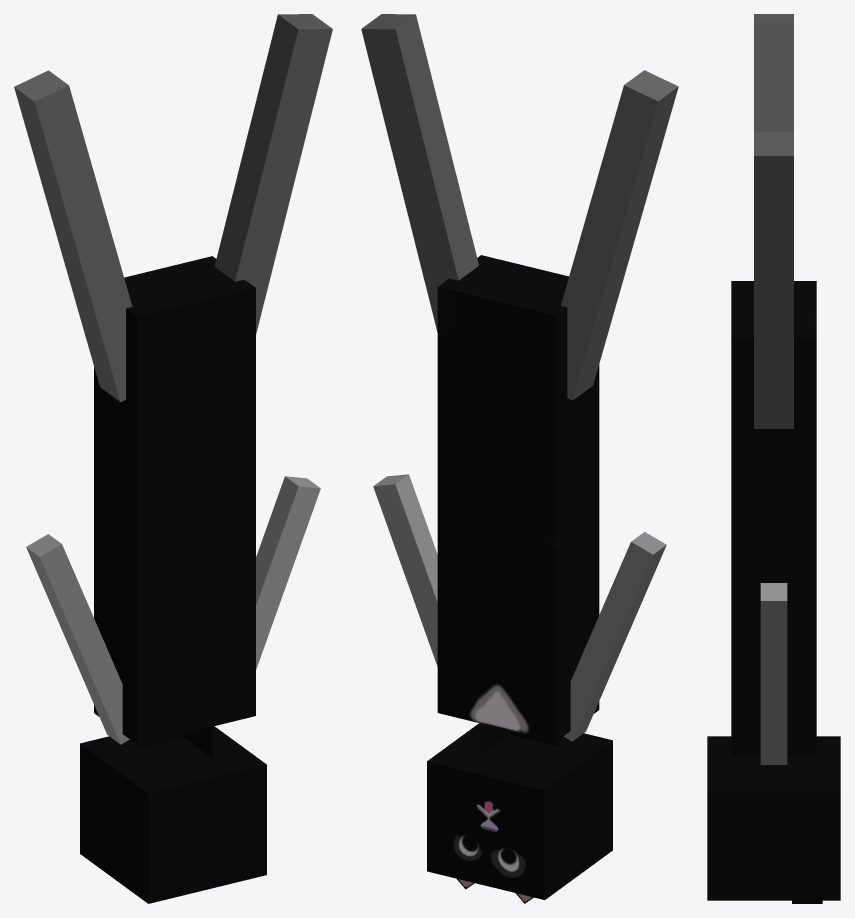
Rendered from char.glb.
3 views of the same model, side by side, from view 1: azimuth 30°, elevation 25°; view 2: azimuth 150°, elevation 25°; view 3: azimuth 270°, elevation 25° (orthographic). The views are drawn at different scales.
Visible parts, largest first — view 1: Torso, Head, right_leg, left_leg, right_arm, left_arm; view 2: Torso, Head, right_leg, left_leg, right_arm, left_arm; view 3: Torso, Head, left_leg, left_arm, right_leg.
Part boxes in pixels (x1=…): Torso: x1=94, y1=256, x2=255, y2=757; Head: x1=80, y1=726, x2=266, y2=903; right_leg: x1=14, y1=70, x2=132, y2=402; left_leg: x1=214, y1=14, x2=332, y2=334; right_arm: x1=26, y1=534, x2=129, y2=744; left_arm: x1=256, y1=476, x2=320, y2=669; Torso: x1=437, y1=255, x2=599, y2=754; Head: x1=427, y1=723, x2=612, y2=899; right_leg: x1=561, y1=70, x2=678, y2=400; left_leg: x1=361, y1=14, x2=478, y2=332; right_arm: x1=563, y1=532, x2=666, y2=741; left_arm: x1=373, y1=474, x2=437, y2=666; Torso: x1=731, y1=281, x2=816, y2=755; Head: x1=707, y1=736, x2=840, y2=900; left_leg: x1=754, y1=132, x2=793, y2=428; left_arm: x1=760, y1=583, x2=787, y2=764; right_leg: x1=754, y1=14, x2=793, y2=131.
Size of the model in its own units: 5.03 by 13.42 by 2.
Materials: 8 (4 with a texture image).
